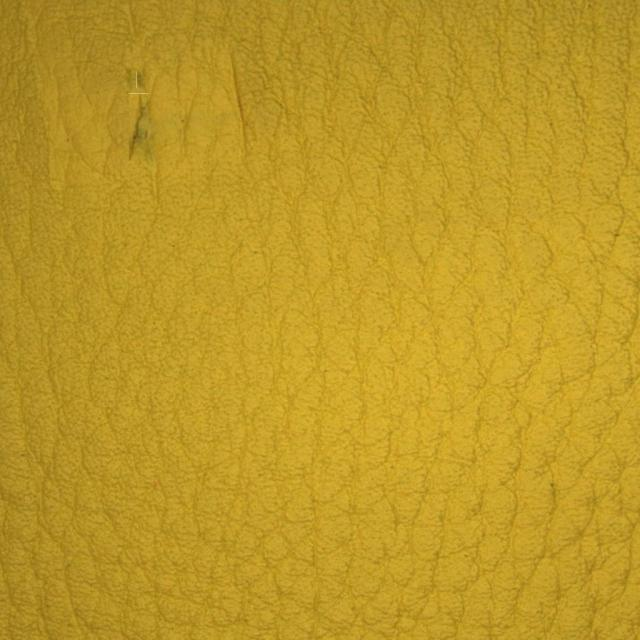Bacterial Injury: (75, 17, 210, 202)
